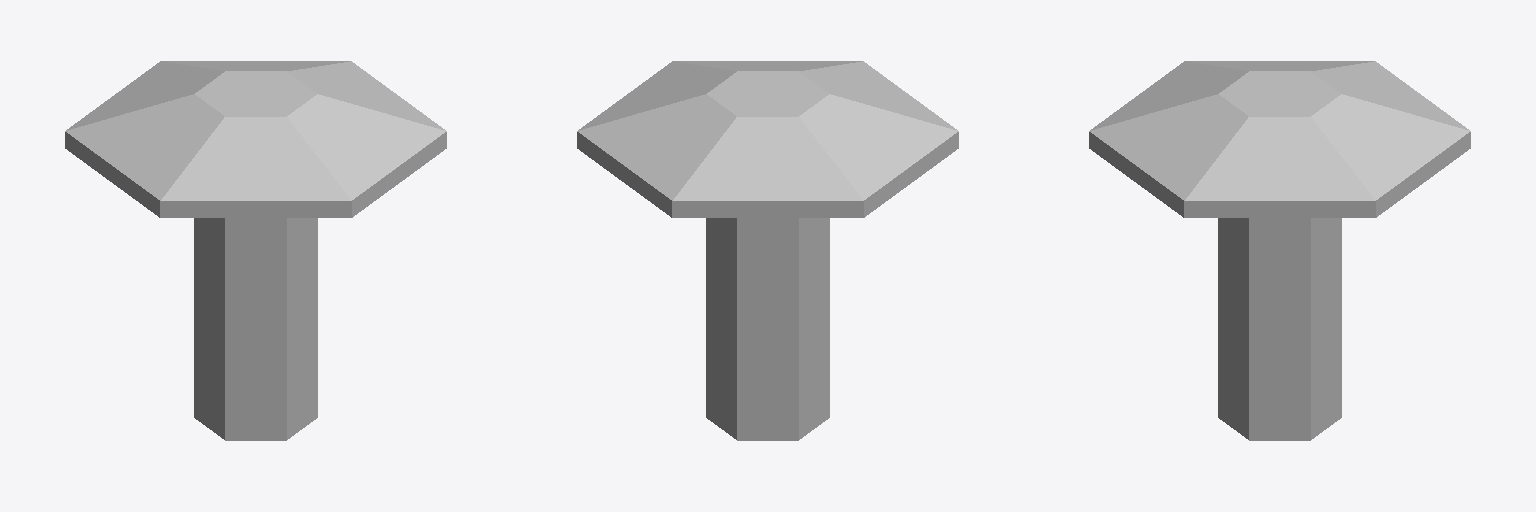
The model's file is Mushroom1Proto.obj.
3 views of the same model, side by side, from view 1: azimuth 30°, elevation 25°; view 2: azimuth 150°, elevation 25°; view 3: azimuth 270°, elevation 25° (orthographic).
Parts seen in each view (by area): view 1: Cylinder; view 2: Cylinder; view 3: Cylinder.
Part boxes in pixels (x1,y1,x2,y2): Cylinder: (65, 61, 446, 440); Cylinder: (577, 61, 958, 440); Cylinder: (1089, 61, 1470, 440).
Size of the model in its own units: 1.3 by 1.41 by 1.5.